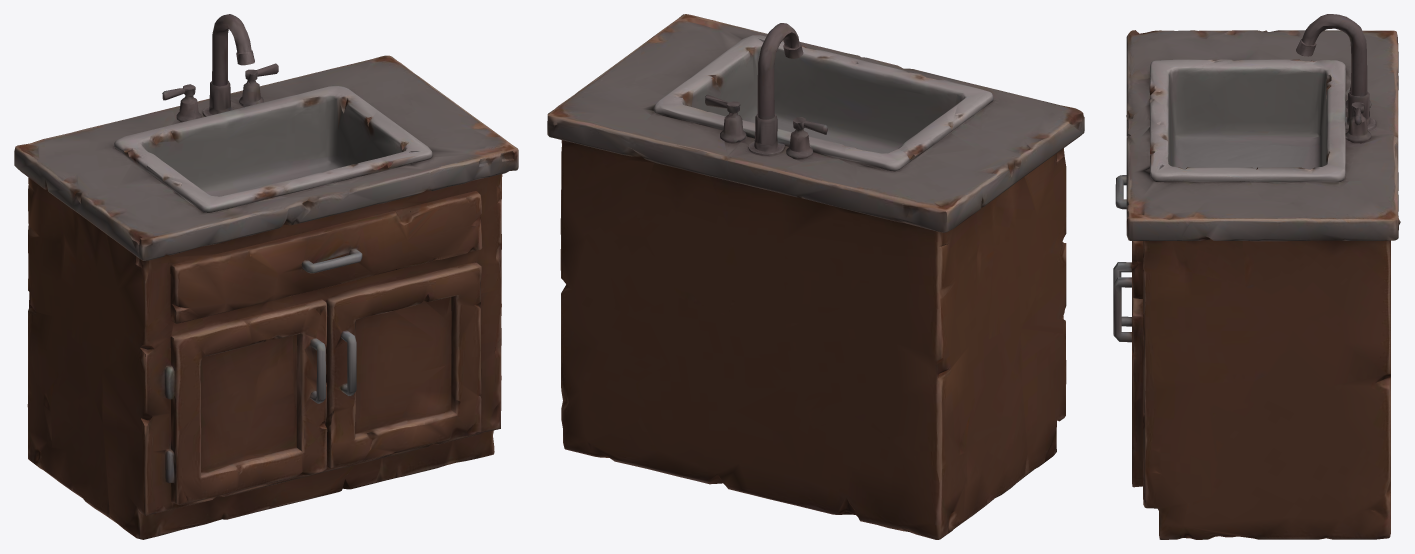
The model's file is kitchen_counter_s_rakovinoy_idle.glb.
3 views of the same model, side by side, from view 1: azimuth 30°, elevation 25°; view 2: azimuth 150°, elevation 25°; view 3: azimuth 270°, elevation 25° (orthographic). The views are drawn at different scales.
Parts seen in each view (by area): view 1: tripo_node_862a3e04-87ce-458f-8a31-9ab6fdf2e00e; view 2: tripo_node_862a3e04-87ce-458f-8a31-9ab6fdf2e00e; view 3: tripo_node_862a3e04-87ce-458f-8a31-9ab6fdf2e00e.
Boxes of the visible parts, x1,y1,x2,y2 form: tripo_node_862a3e04-87ce-458f-8a31-9ab6fdf2e00e: (14, 14, 518, 539); tripo_node_862a3e04-87ce-458f-8a31-9ab6fdf2e00e: (547, 14, 1084, 539); tripo_node_862a3e04-87ce-458f-8a31-9ab6fdf2e00e: (1113, 14, 1400, 539).
Bounding box in the file's own units: 1.2 × 1.28 × 0.7632.
Materials: 1 (1 with a texture image).
